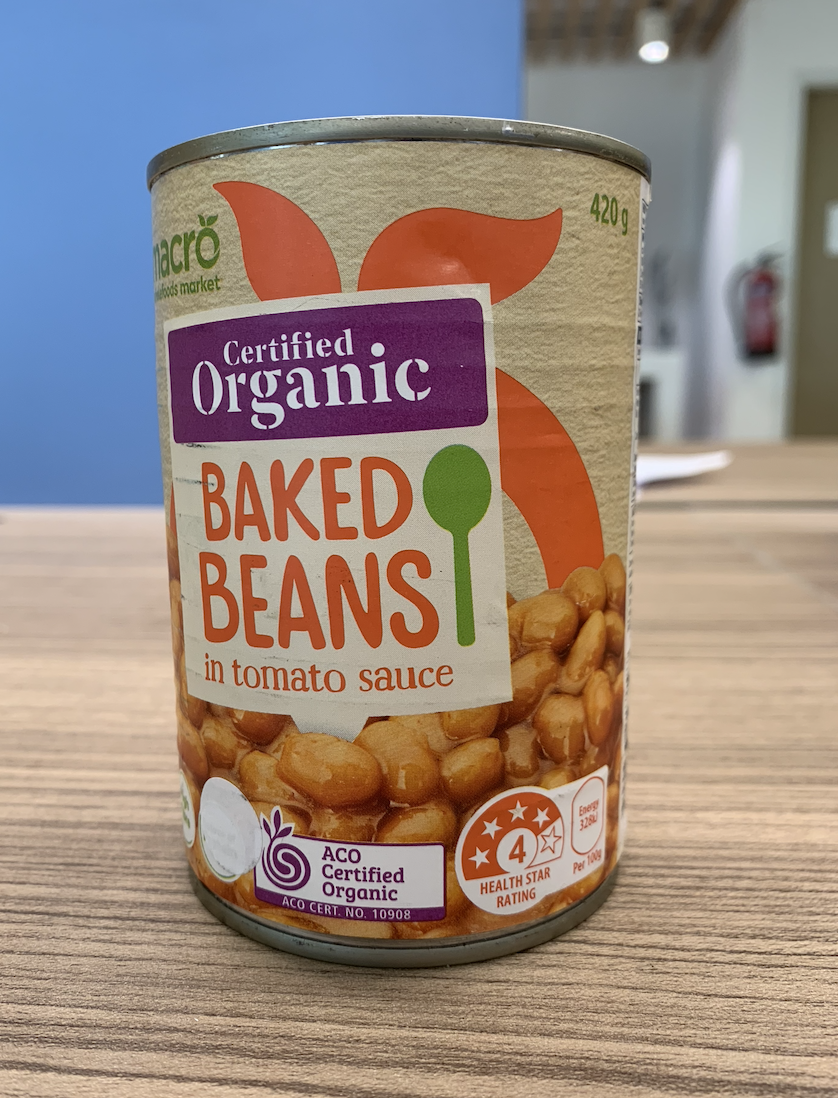Baked beans_450g: (170, 150, 621, 921)
